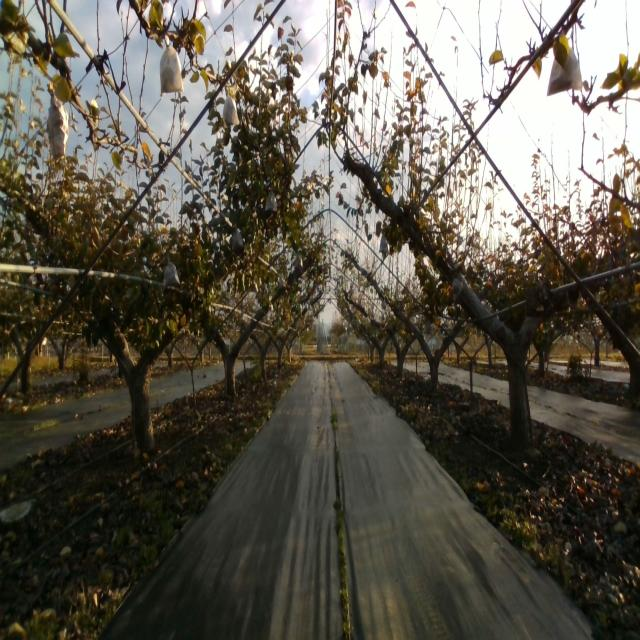pearbags: (46, 88, 70, 162), (547, 47, 582, 97), (160, 34, 183, 97), (222, 86, 240, 129), (264, 186, 283, 216), (232, 227, 250, 257), (165, 262, 183, 292), (452, 273, 464, 302), (379, 232, 390, 255)
